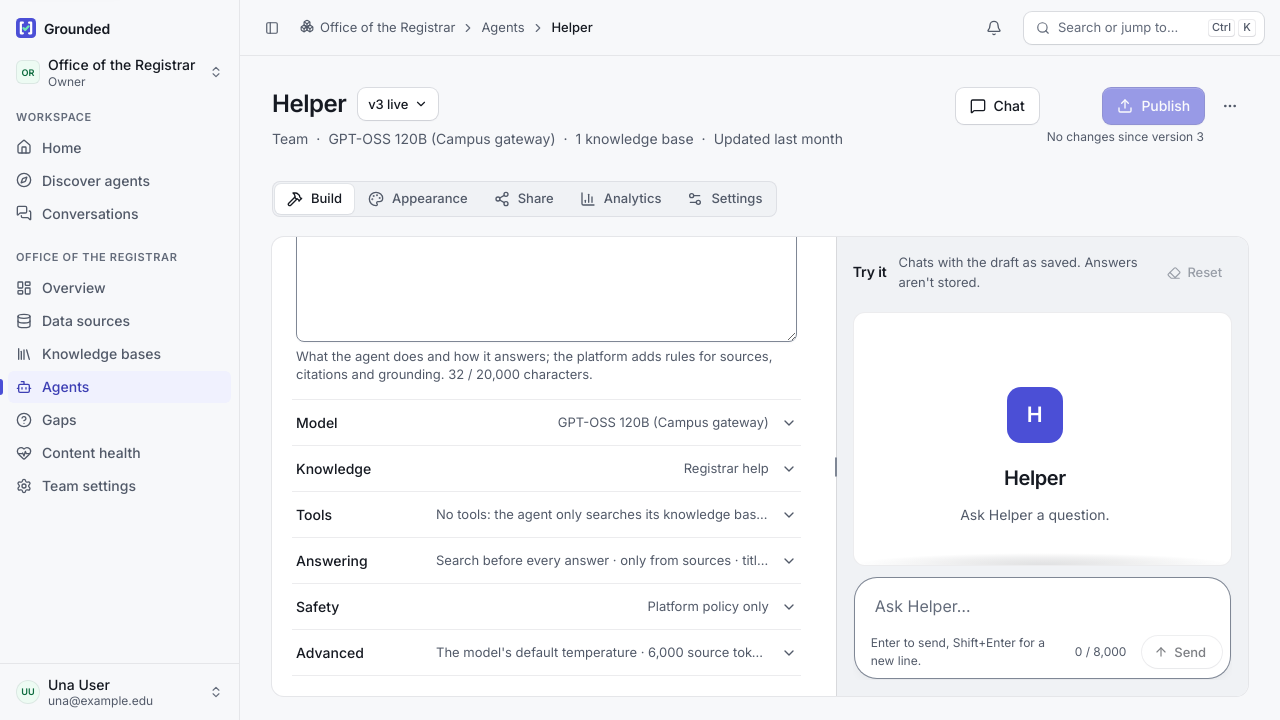
Scenario: Build › Reasoning effort says Off was ignored by the model's last Test, and warns once Off is chosen
(page scrolled)
Click the button "Advanced". click: (546, 653)
box: [292, 630, 801, 675]
(page scrolled)
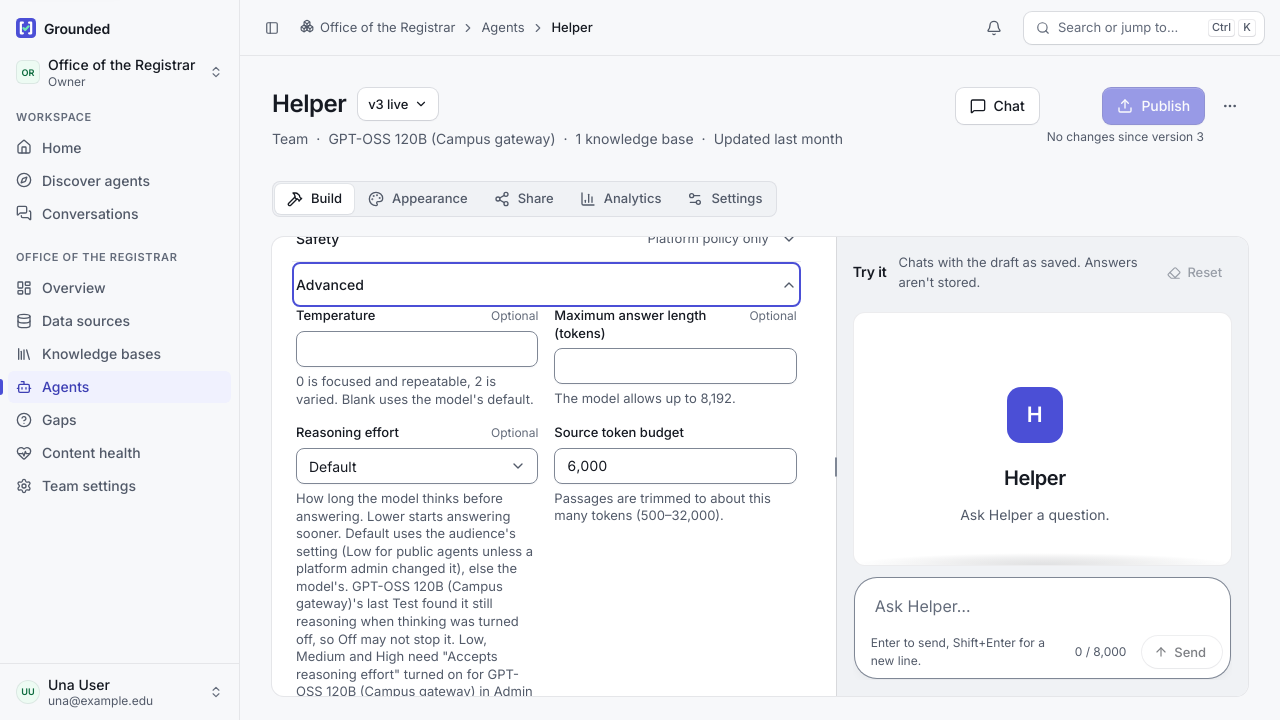
Expected: the text "Off did not stop this model" is not shown
Select "Off (ignored by this model)" in the dropdown labelled "Reasoning effort". click: (417, 466)
box: [296, 448, 538, 484]
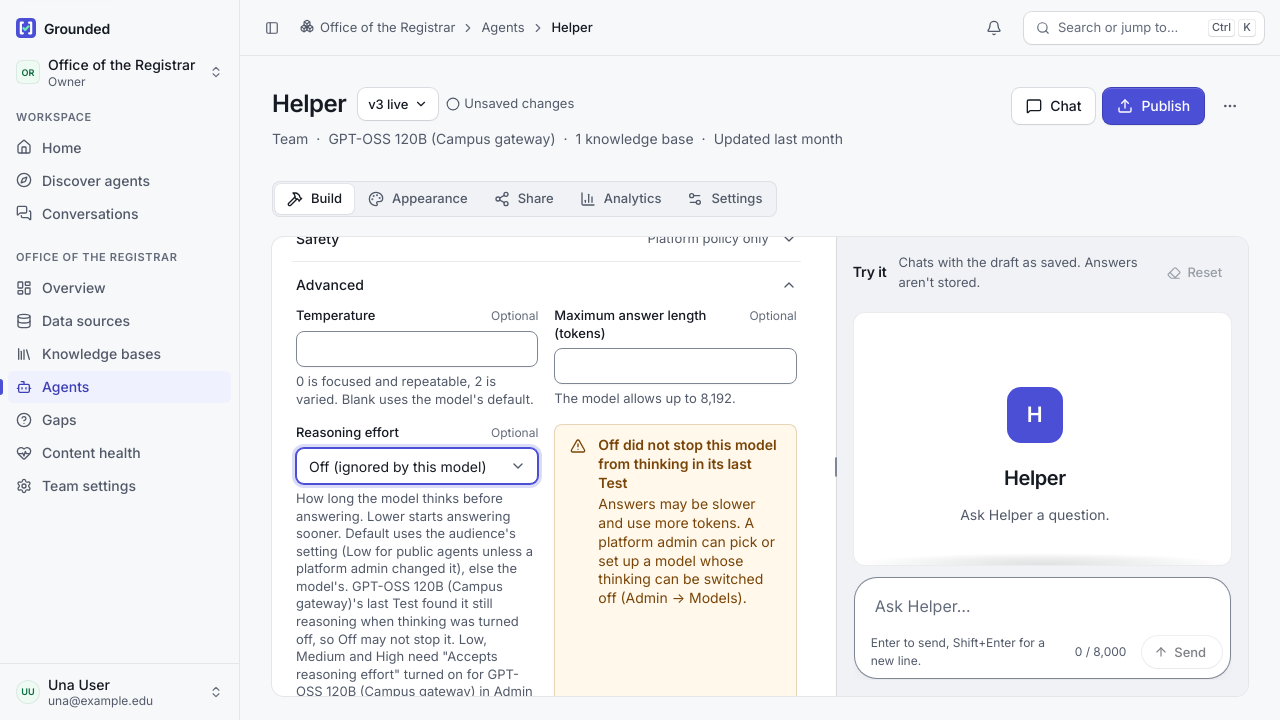
Result: the text "Off did not stop this model" shows "slower" at [598, 495, 775, 606]
